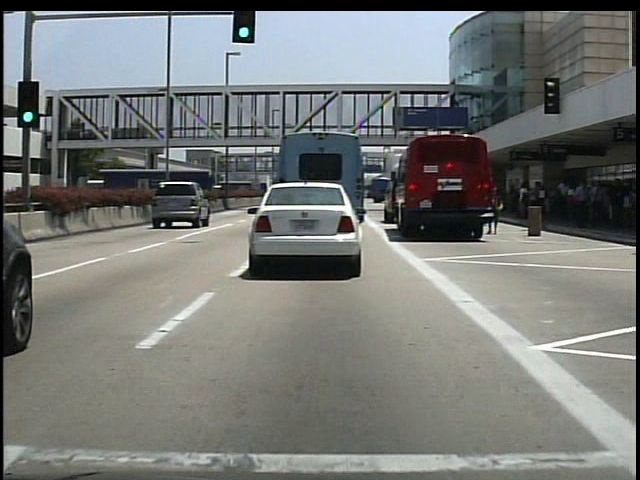person: (489, 187, 502, 238)
